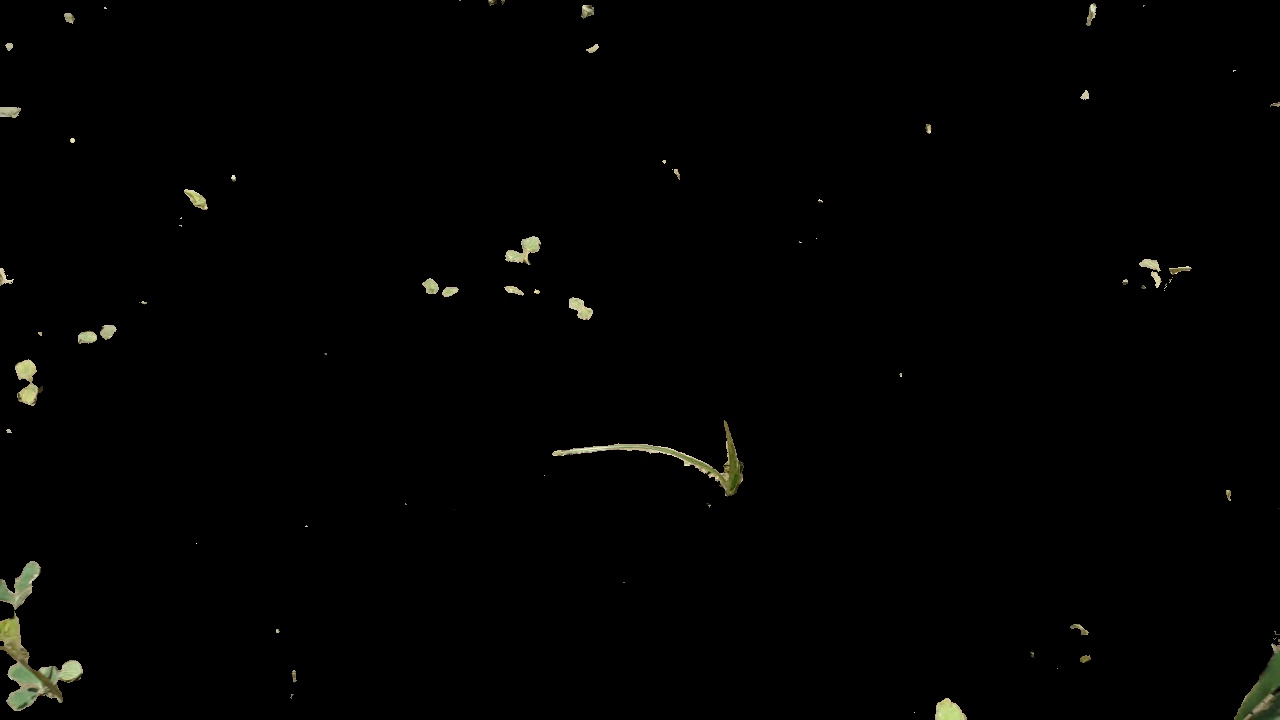crop: (1224, 619, 1277, 720)
weed: (551, 421, 750, 494), (1, 562, 82, 708), (1131, 253, 1191, 309), (10, 351, 47, 410), (172, 182, 213, 213), (68, 321, 118, 345), (508, 237, 544, 267), (422, 277, 459, 305), (495, 285, 546, 304), (562, 294, 600, 319)
